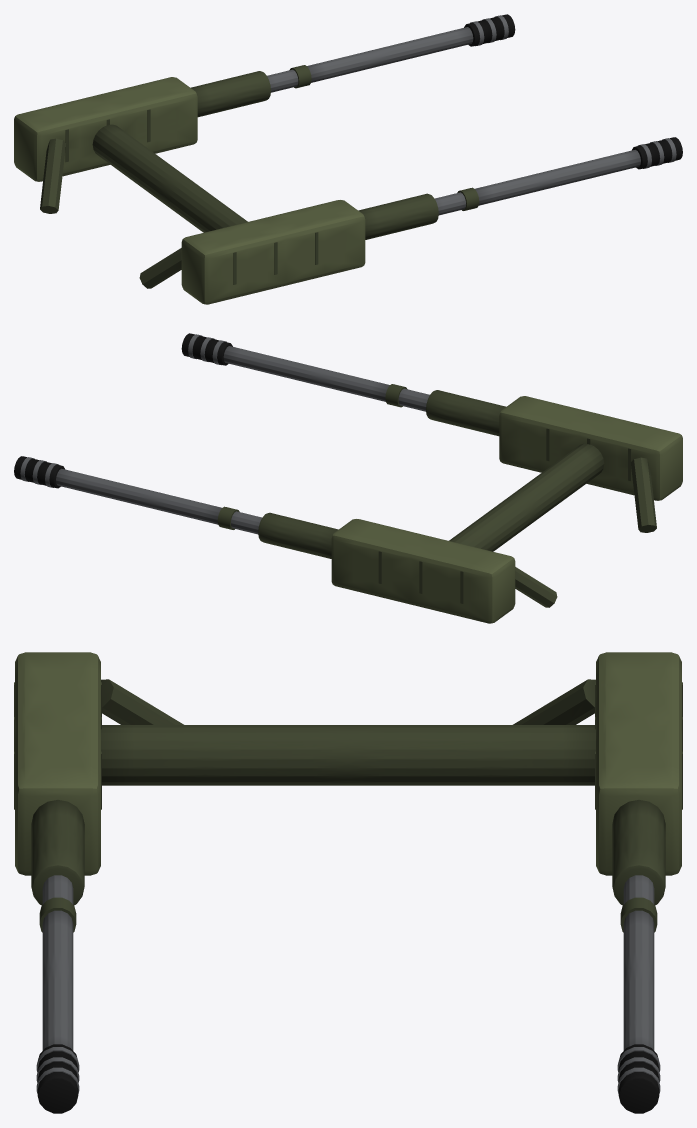
The model's file is spaag_guns.glb.
The picture shows the model from 3 angles, top to bottom: view 1: azimuth 30°, elevation 25°; view 2: azimuth 150°, elevation 25°; view 3: azimuth 270°, elevation 25°; orthographic projection. The views are drawn at different scales.
Parts seen in each view (by area): view 1: Cube; view 2: Cube; view 3: Cube.
Boxes of the visible parts, x1,y1,x2,y2 form: Cube: (14,14,682,304); Cube: (14,333,682,623); Cube: (14,652,682,1113).
Bounding box in the file's own units: 4.92 × 0.6121 × 3.27.
